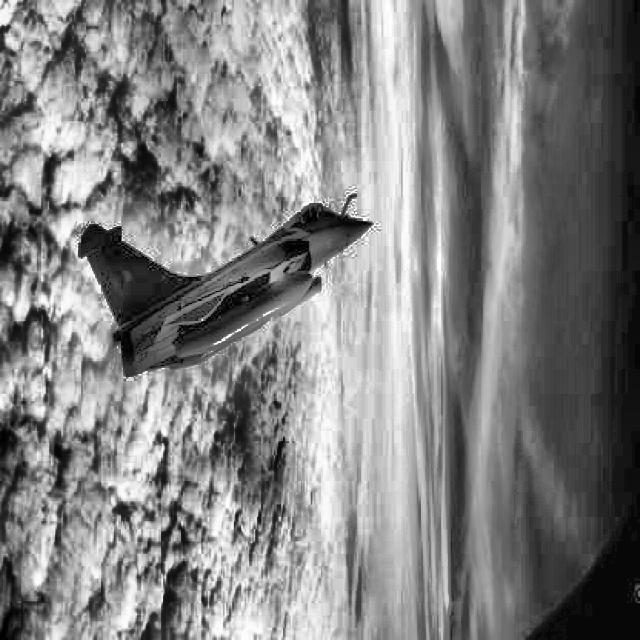Rafale: (78, 193, 374, 378)
